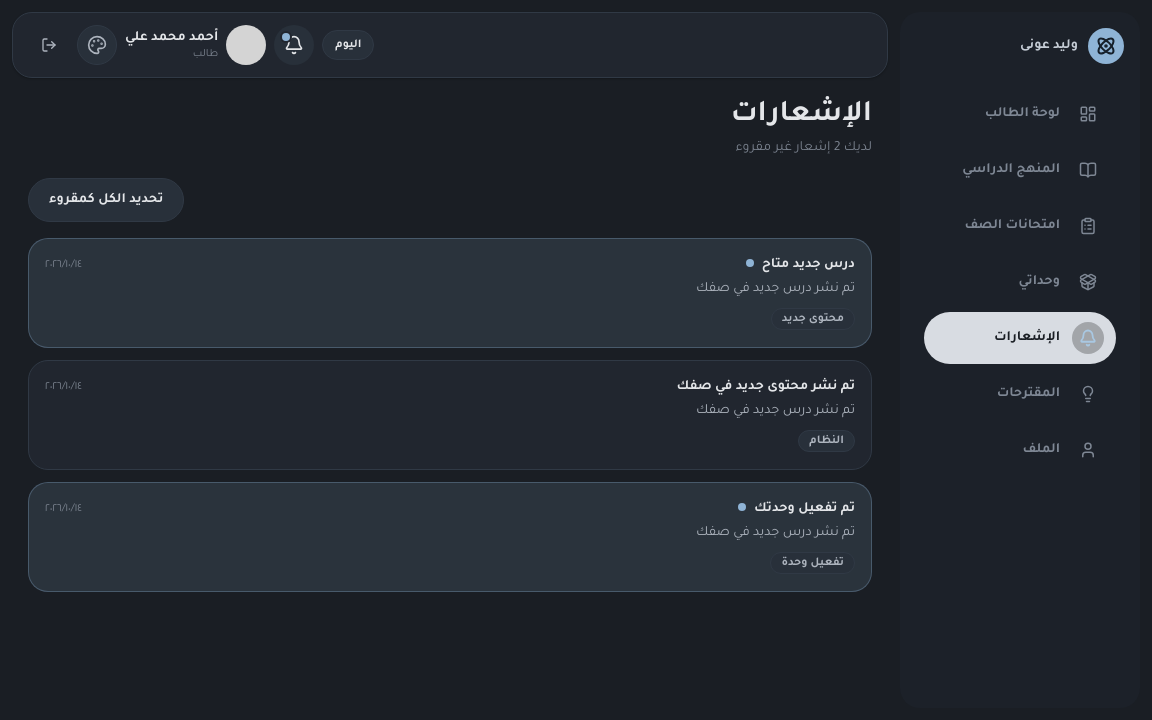
Test: StudentNotificationsPage › navigates to the lesson when a notification points to one
Step 1. Click the button with test id "notification-notif-1" → (808, 265), box [28,238,872,348]
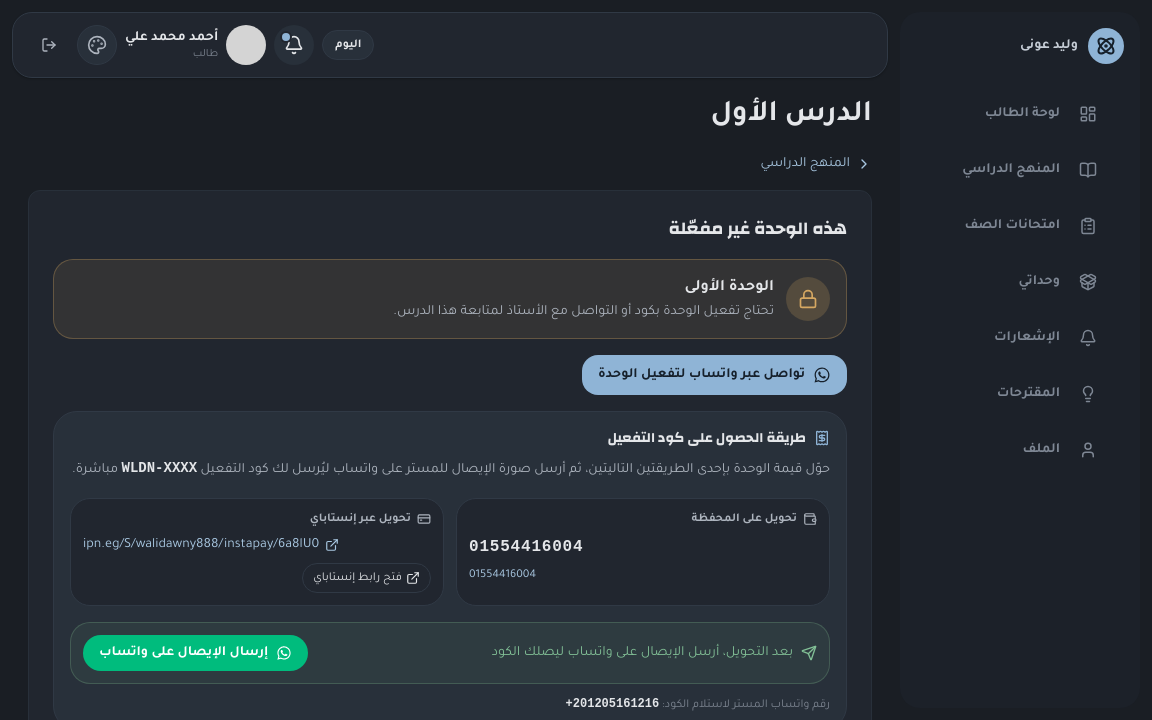
expect the heading "الدرس الأول" is shown: met, box [710,98,872,134]
